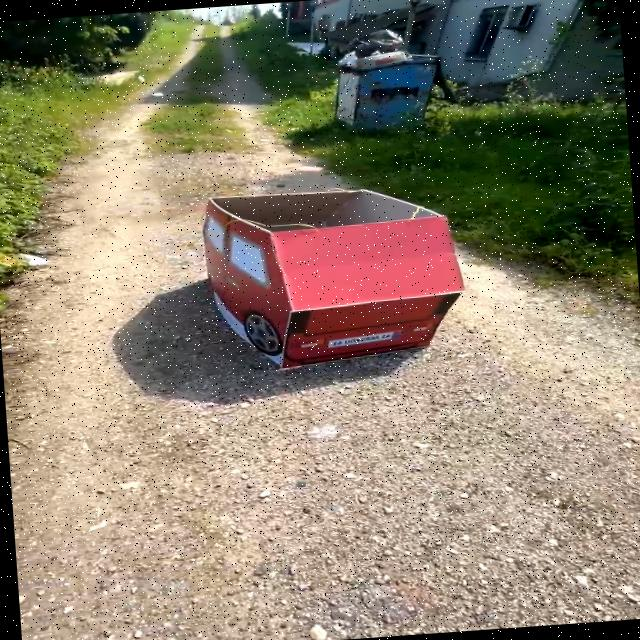red_car: (172, 160, 525, 390)
